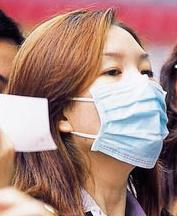OK: (70, 43, 168, 167)
